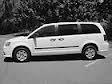car: (2, 21, 112, 66)
